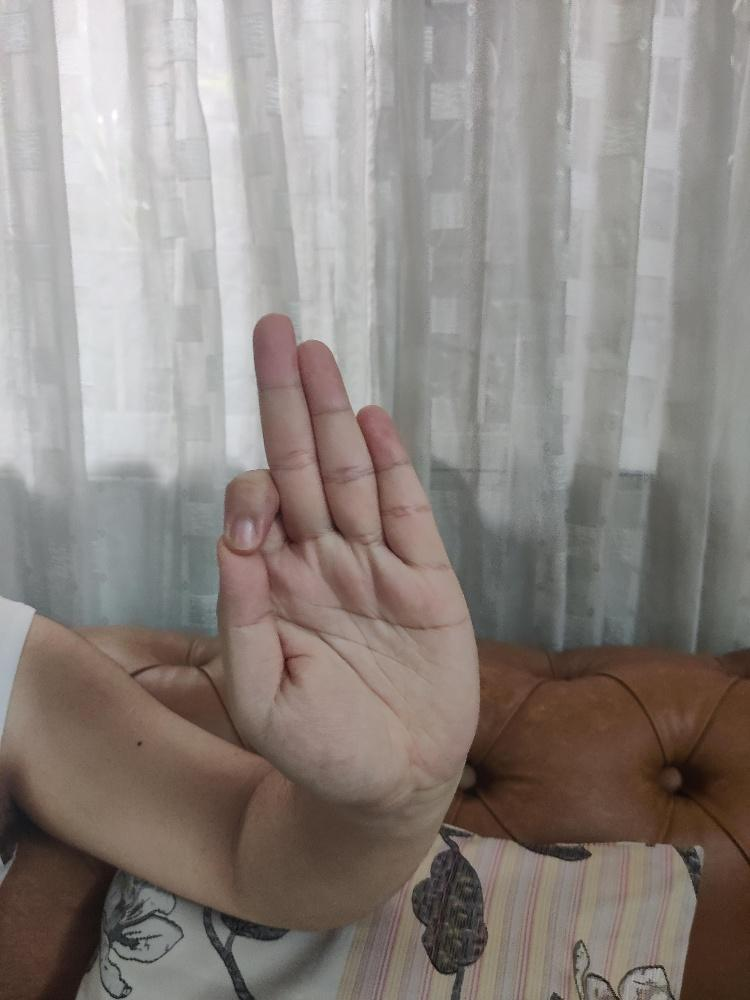f: (214, 308, 484, 806)
